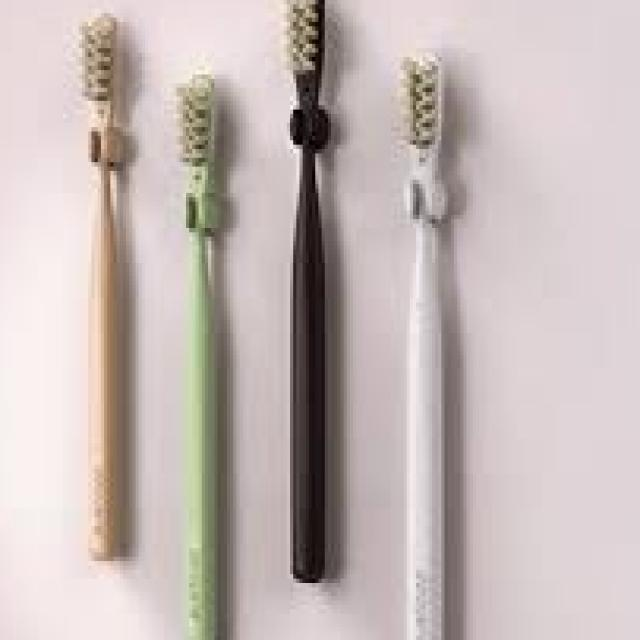organic: (267, 0, 370, 589), (48, 10, 151, 577), (165, 63, 266, 623), (383, 44, 480, 616)
